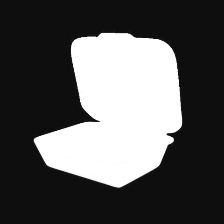foam_box: (29, 23, 188, 192)
